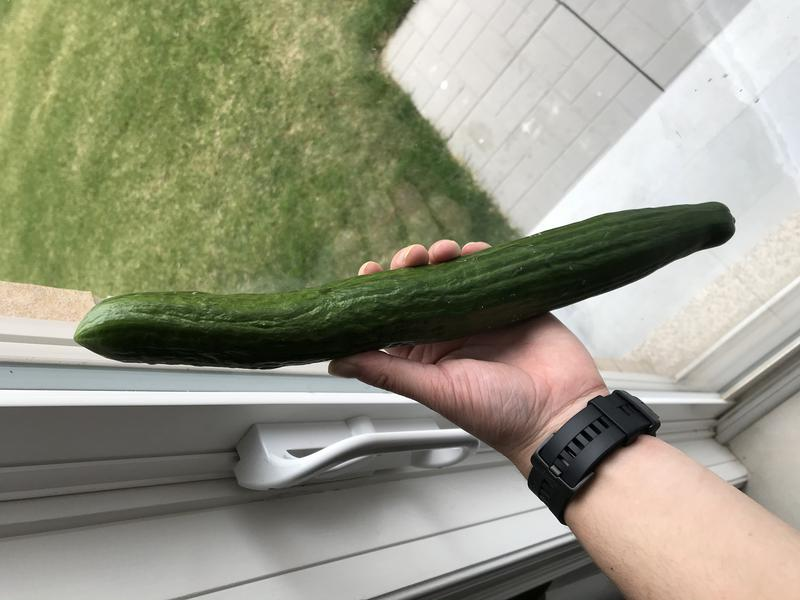cucumber: (69, 192, 749, 403)
